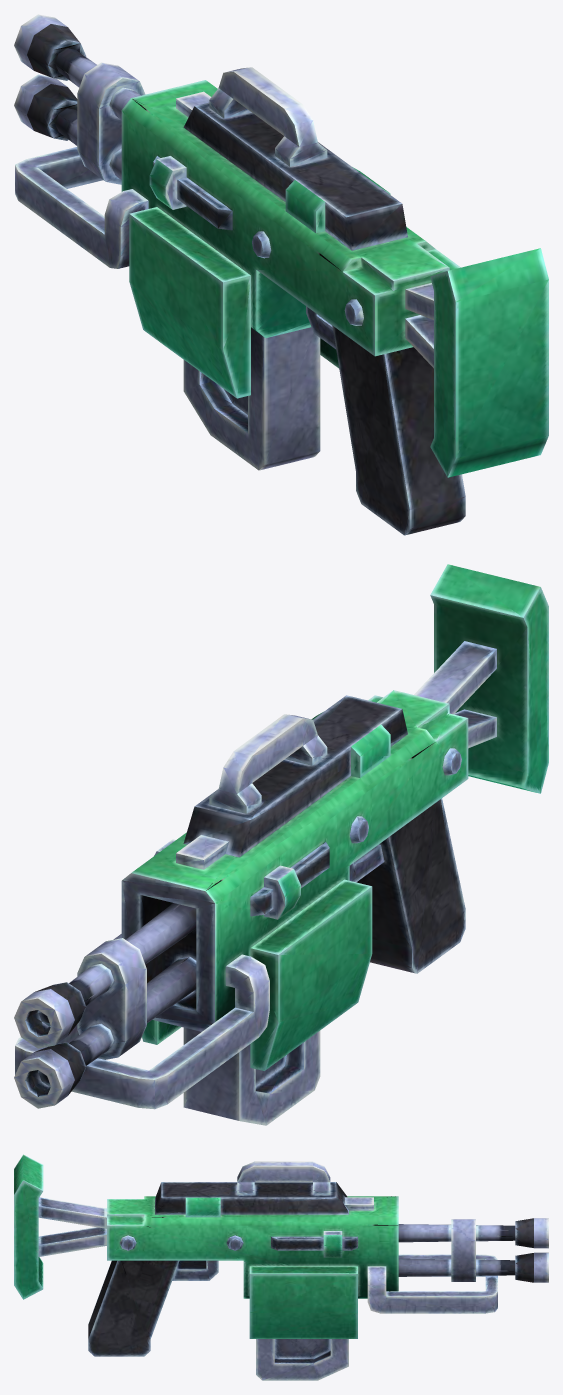
The picture shows the model from 3 angles, top to bottom: view 1: azimuth 30°, elevation 25°; view 2: azimuth 150°, elevation 25°; view 3: azimuth 270°, elevation 25°; orthographic projection. The views are drawn at different scales.
Visible parts, largest first — view 1: mg, lauf; view 2: mg, lauf; view 3: mg, lauf.
Part boxes in pixels (x1,y1,x2,y2): mg: (15, 48, 548, 535); lauf: (14, 14, 86, 140); mg: (15, 564, 548, 1125); lauf: (14, 982, 86, 1108); mg: (14, 1154, 515, 1380); lauf: (515, 1218, 548, 1282).
Bounding box in the file's own units: 0.0668 × 0.1549 × 0.36.
1 material, 1 textured.
